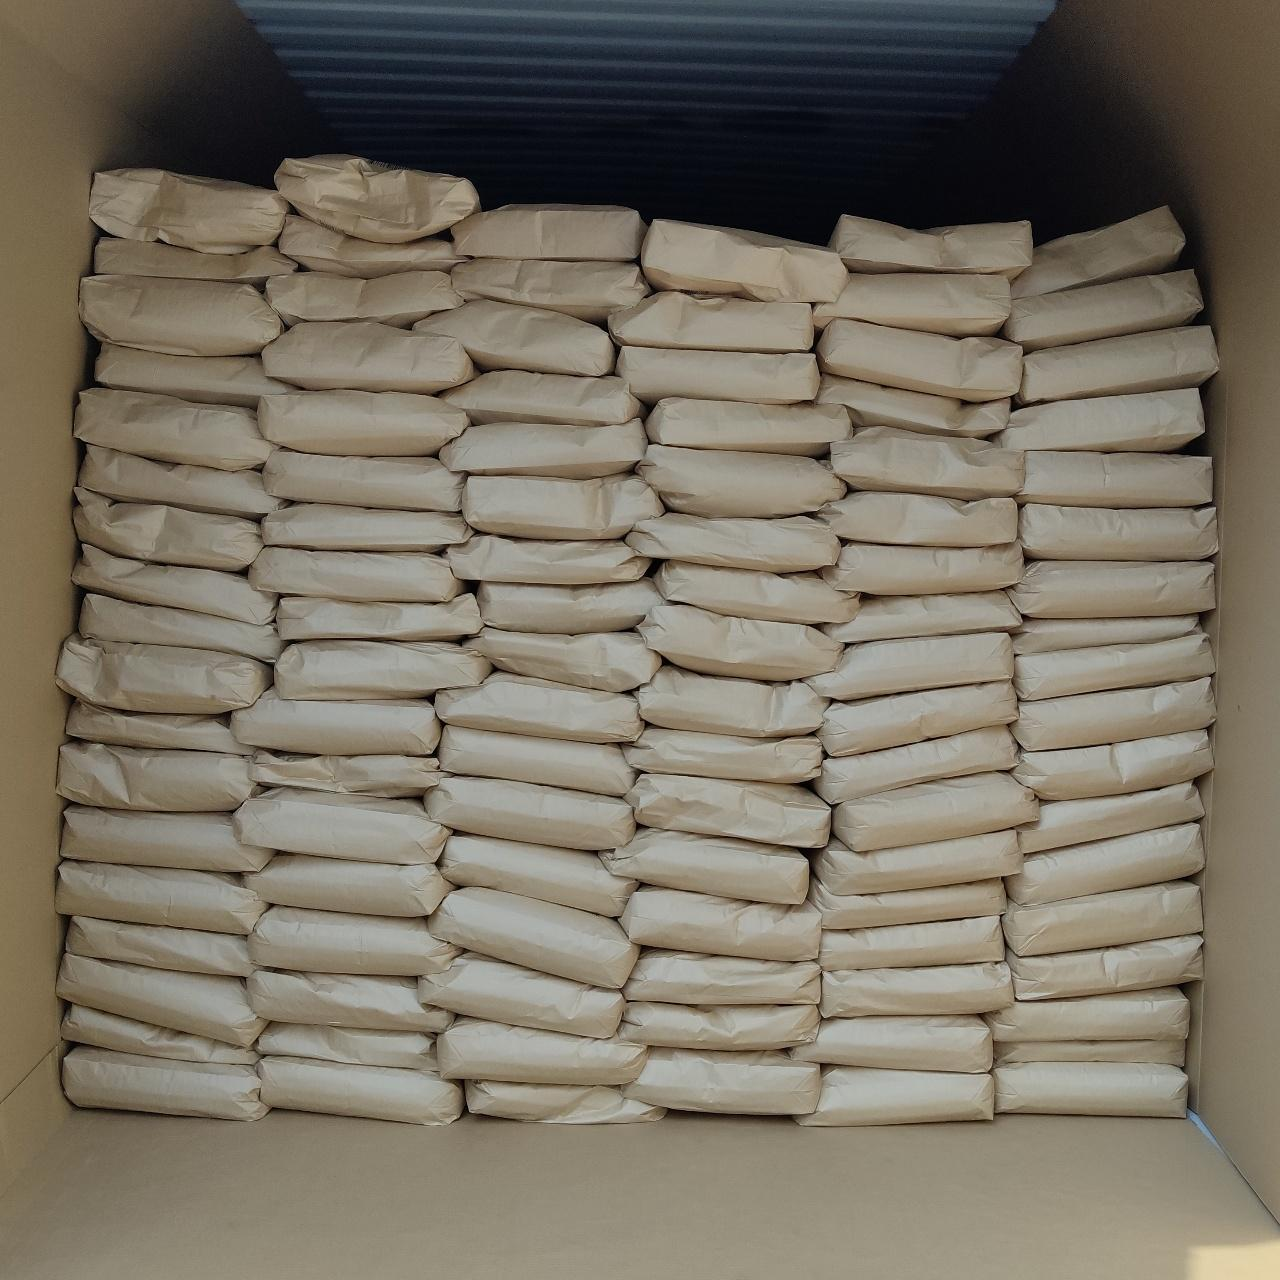sack: (429, 887, 638, 987), (57, 953, 265, 1048), (275, 155, 479, 241), (417, 953, 622, 1039), (90, 169, 288, 254), (640, 220, 846, 302), (816, 319, 1021, 401), (57, 635, 271, 713), (75, 388, 274, 470), (1005, 271, 1201, 353), (80, 275, 284, 354), (835, 772, 1039, 851), (1007, 823, 1203, 904), (73, 486, 263, 570), (233, 789, 450, 862), (441, 835, 635, 915), (72, 545, 273, 622), (424, 776, 635, 850), (57, 860, 265, 935), (1012, 207, 1184, 298), (1017, 326, 1218, 403), (636, 605, 843, 680), (411, 299, 614, 375), (815, 727, 1017, 803), (636, 444, 845, 518), (63, 1046, 266, 1121), (263, 322, 474, 394), (600, 830, 808, 903), (625, 774, 829, 847), (817, 681, 1017, 756), (1010, 678, 1216, 750), (619, 886, 821, 960), (1003, 881, 1201, 956), (248, 906, 458, 975), (829, 425, 1023, 499), (435, 673, 642, 742), (77, 445, 278, 517), (60, 806, 274, 872), (437, 1017, 647, 1084), (57, 741, 256, 811), (805, 632, 1013, 699), (1012, 730, 1212, 799), (815, 829, 1022, 896), (79, 594, 281, 662), (440, 726, 635, 796), (231, 688, 440, 754), (1014, 632, 1214, 700), (638, 666, 828, 737), (258, 1057, 463, 1123), (1017, 782, 1203, 855), (258, 392, 469, 455), (462, 626, 661, 692), (243, 855, 452, 917), (95, 343, 293, 409), (622, 1048, 821, 1114), (999, 388, 1203, 451), (452, 259, 651, 324), (608, 291, 813, 353), (654, 560, 859, 622), (274, 641, 491, 700), (829, 215, 1032, 277), (626, 513, 840, 572), (1007, 935, 1201, 1000), (247, 971, 452, 1032), (463, 476, 663, 538), (441, 418, 646, 478), (818, 374, 1010, 437), (815, 274, 1009, 336), (263, 450, 461, 511), (248, 546, 463, 602), (61, 1005, 257, 1065), (617, 346, 819, 403), (646, 399, 852, 455), (799, 1067, 993, 1126), (1010, 561, 1216, 618), (791, 1015, 992, 1073), (1020, 503, 1217, 560), (819, 539, 1023, 594), (819, 491, 1017, 547), (66, 917, 252, 976), (452, 205, 647, 261), (986, 987, 1189, 1041), (440, 372, 641, 425), (267, 271, 464, 326), (624, 949, 821, 1005), (821, 961, 1012, 1017), (1017, 452, 1212, 508), (625, 728, 823, 782), (280, 217, 458, 277), (992, 1062, 1187, 1116), (822, 591, 1021, 644), (66, 699, 252, 754), (442, 535, 649, 584), (476, 579, 661, 634), (263, 504, 474, 552), (810, 878, 1006, 930), (821, 915, 1003, 971), (617, 1002, 819, 1050), (275, 594, 482, 640), (94, 237, 297, 282), (258, 1022, 437, 1071), (251, 751, 440, 797), (467, 1081, 663, 1122), (1013, 617, 1197, 655), (995, 1032, 1184, 1068)
